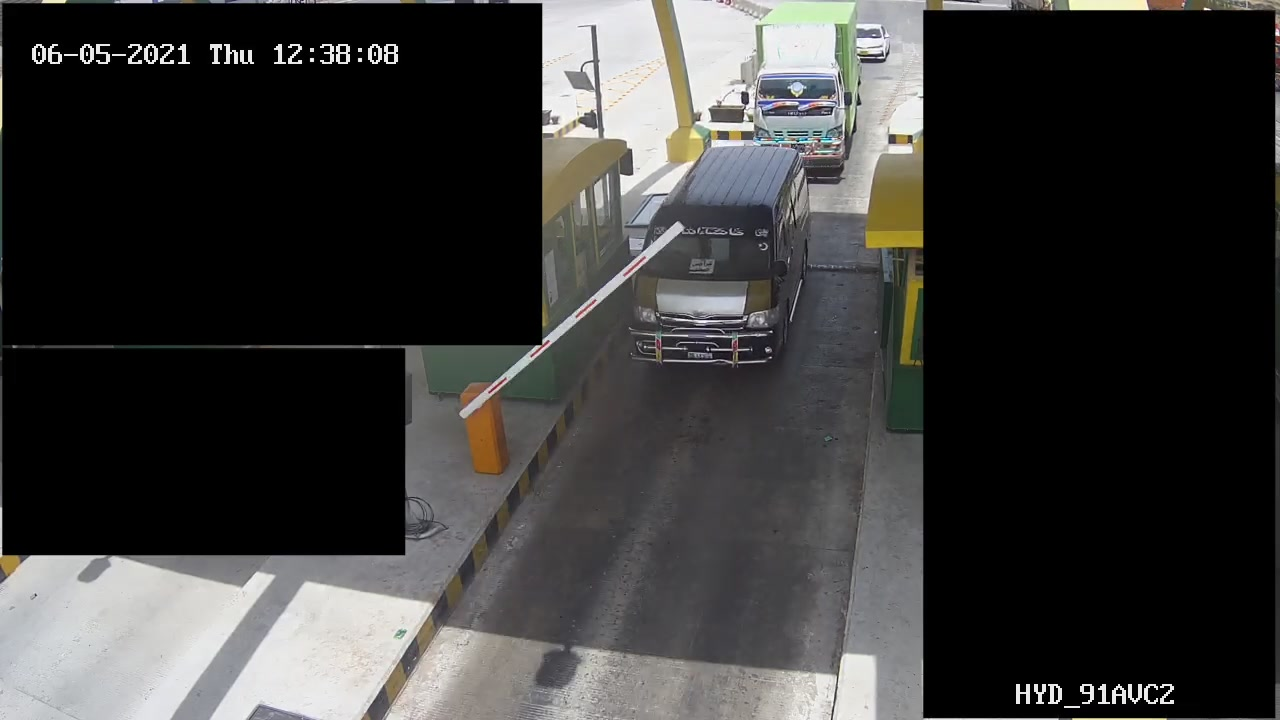F2: (632, 142, 815, 375)
